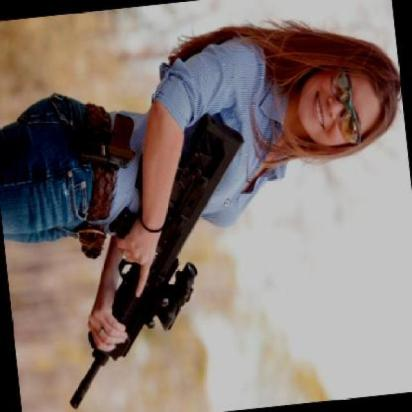Gun: (67, 112, 245, 412)
